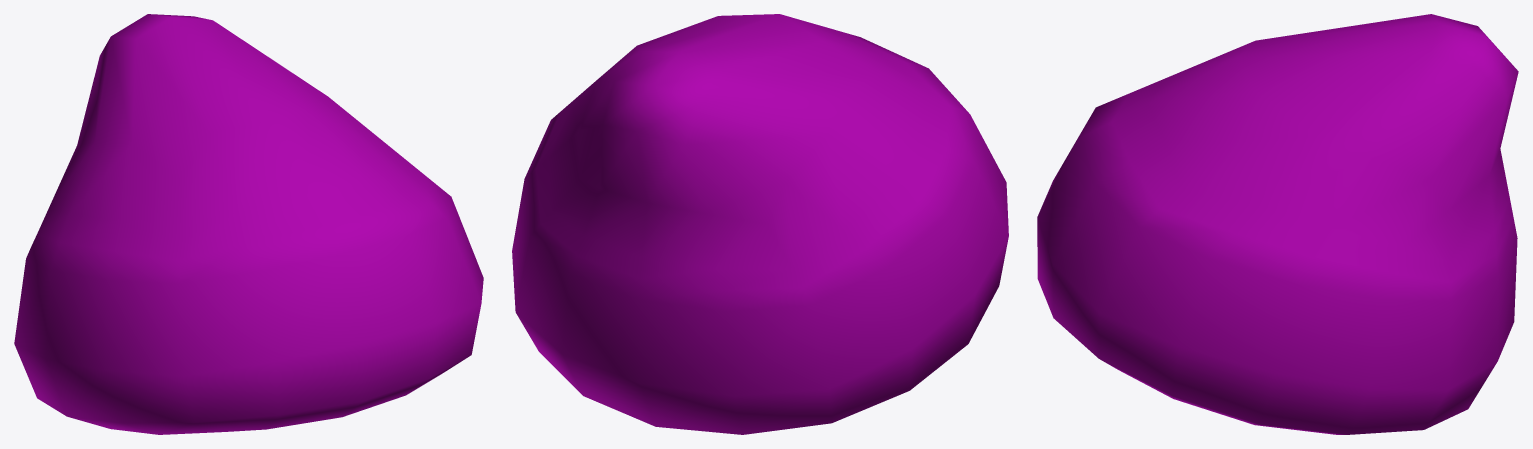
Rendered from slimeWalk.fbx.
3 views of the same model, side by side, from view 1: azimuth 30°, elevation 25°; view 2: azimuth 150°, elevation 25°; view 3: azimuth 270°, elevation 25° (orthographic). The views are drawn at different scales.
Visible parts, largest first — view 1: pCube1; view 2: pCube1; view 3: pCube1.
Boxes of the visible parts, x1=… form: pCube1: x1=14, y1=14, x2=483, y2=434; pCube1: x1=512, y1=14, x2=1008, y2=434; pCube1: x1=1037, y1=14, x2=1518, y2=434.
Bounding box in the file's own units: 0.8785 × 0.72 × 0.8618.
